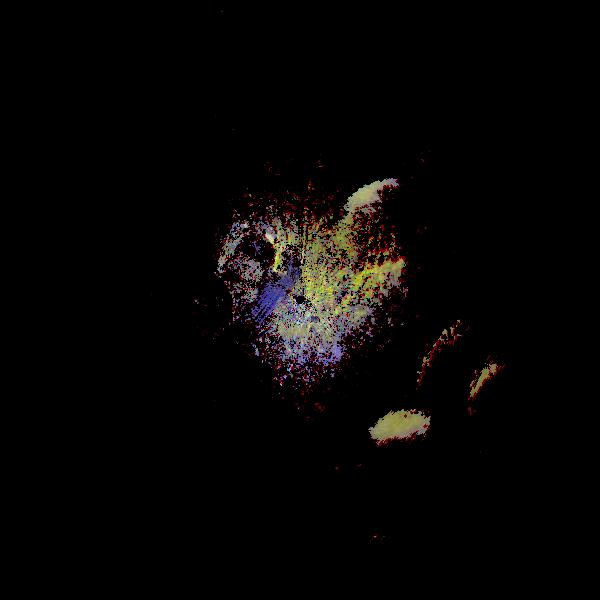roost: (309, 133, 516, 340), (336, 384, 501, 549)
